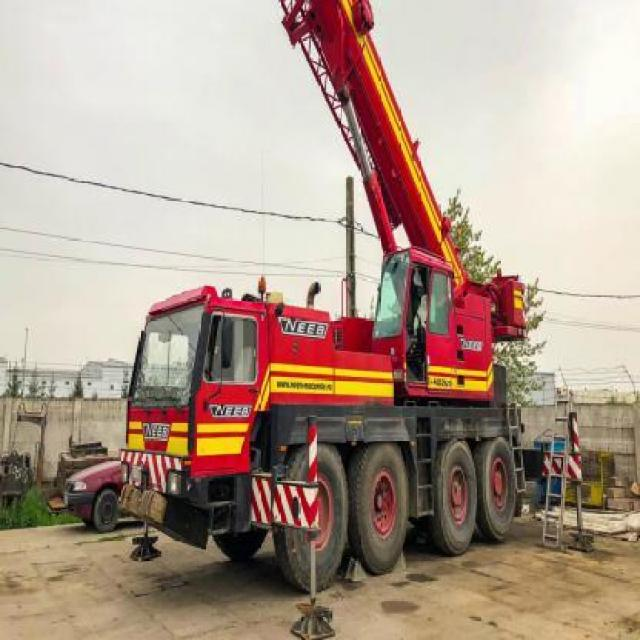Mobile Crane: (118, 0, 593, 638)
